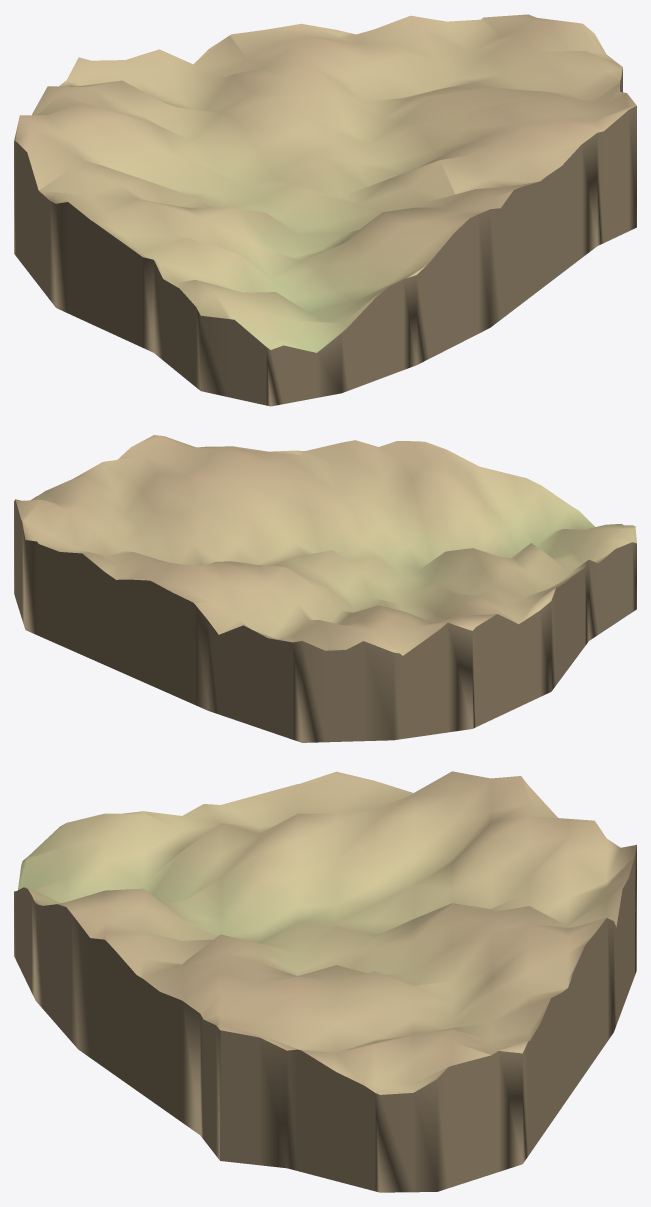
The model's file is AND.glb.
3 views of the same model, one above another, from view 1: azimuth 30°, elevation 25°; view 2: azimuth 150°, elevation 25°; view 3: azimuth 270°, elevation 25° (orthographic). The views are drawn at different scales.
Parts seen in each view (by area): view 1: AND; view 2: AND; view 3: AND.
Boxes of the visible parts, x1=… form: AND: x1=14, y1=14, x2=636, y2=406; AND: x1=14, y1=435, x2=636, y2=742; AND: x1=14, y1=771, x2=636, y2=1192.
Size of the model in its own units: 1.62 by 0.338 by 1.41.
